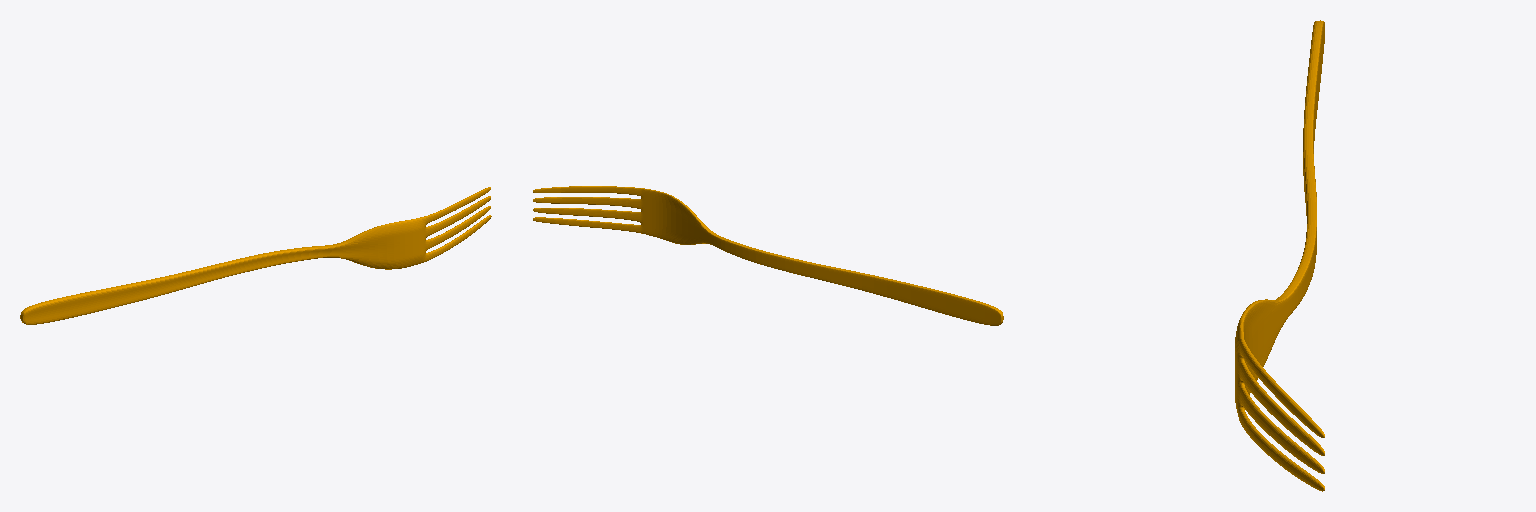
robot.urdf — apple:
<?xml version="0.0" ?>
<robot name="apple">
  <link name="baseLink">
    <contact>
      <lateral_friction value="1.0"/>
      <rolling_friction value="0.0"/>
      <contact_cfm value="0.0"/>
      <contact_erp value="1.0"/>
    </contact>
    <inertial>
      <origin rpy="0 0 0" xyz="0.0 0.0 0.0"/>
       <mass value=".1"/>
       <inertia ixx="1" ixy="0" ixz="0" iyy="1" iyz="0" izz="1"/>
    </inertial>
    <visual>
      <origin rpy="0 0 0" xyz="0 0 0"/>
      <geometry>
        <mesh filename="meshes/notextures/fork1.obj" />
      </geometry>

    </visual>
    <collision>
      <origin rpy="0 0 0" xyz="0 0 0"/>
      <geometry>
	 	<mesh filename="meshes/notextures/fork1.obj"/>
      </geometry>
    </collision>
  </link>
</robot>

--- Render facts (derived) ---
The picture shows the robot from 3 angles, left to right: view 1: azimuth 30°, elevation 25°; view 2: azimuth 150°, elevation 25°; view 3: azimuth 270°, elevation 25°; orthographic projection.
Robot: apple — 1 links, 0 joints (none); root link baseLink; default pose: every joint at zero.
Links seen in each view (by area): view 1: baseLink; view 2: baseLink; view 3: baseLink.
Boxes of the visible links, x1,y1,x2,y2 form: baseLink: (20,187,491,324); baseLink: (533,186,1003,325); baseLink: (1235,20,1324,491).
Size in the robot's own frame: 0.1596 by 0.0141 by 0.0152 metres.
Meshes: 1 distinct files referenced, 1 mesh visuals loaded (1 OBJ).